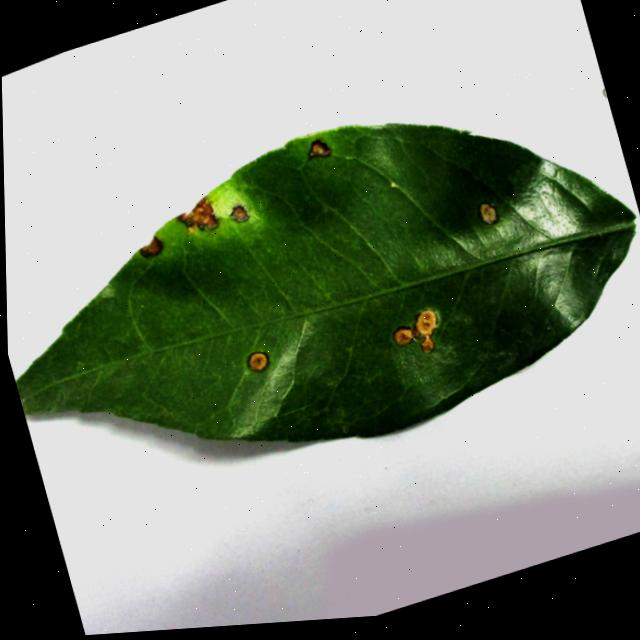antracnose: (14, 123, 634, 440), (392, 308, 437, 351), (178, 197, 215, 231), (139, 236, 161, 256), (246, 350, 268, 370), (477, 202, 497, 223), (307, 138, 329, 156), (229, 203, 247, 221)
